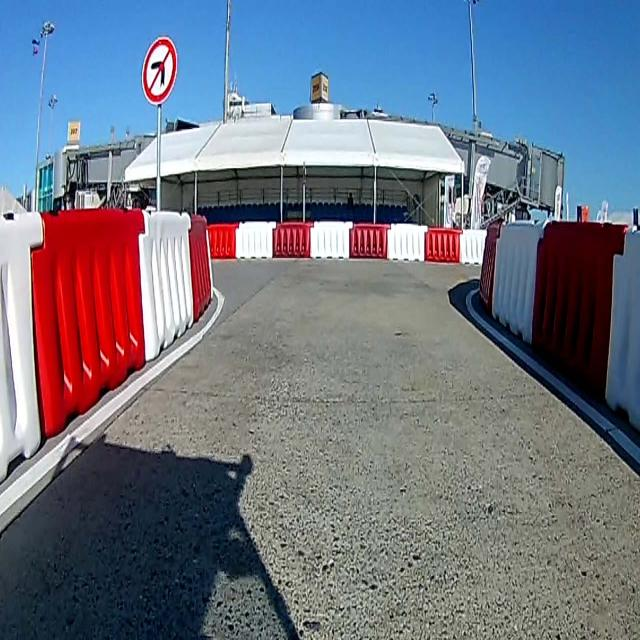soladonulmez: (142, 36, 176, 102)
